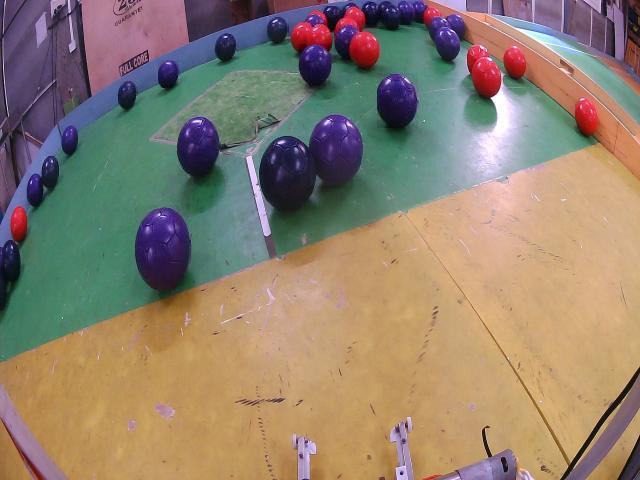jambhalya: (136, 205, 190, 289), (310, 115, 362, 185), (177, 116, 220, 176), (377, 74, 418, 128), (299, 45, 331, 86), (435, 28, 460, 61), (335, 25, 358, 60), (26, 173, 44, 207), (159, 60, 179, 88), (267, 17, 288, 43), (61, 125, 79, 155), (382, 5, 402, 30), (429, 16, 449, 41), (446, 14, 466, 38), (399, 1, 414, 26), (412, 0, 428, 23), (305, 15, 325, 26)
kaalyya: (259, 136, 316, 211), (0, 240, 20, 280), (41, 156, 60, 189), (216, 33, 237, 62), (118, 80, 137, 110), (267, 17, 288, 43), (324, 6, 341, 31), (363, 1, 380, 25), (378, 0, 393, 19), (342, 3, 356, 17)
